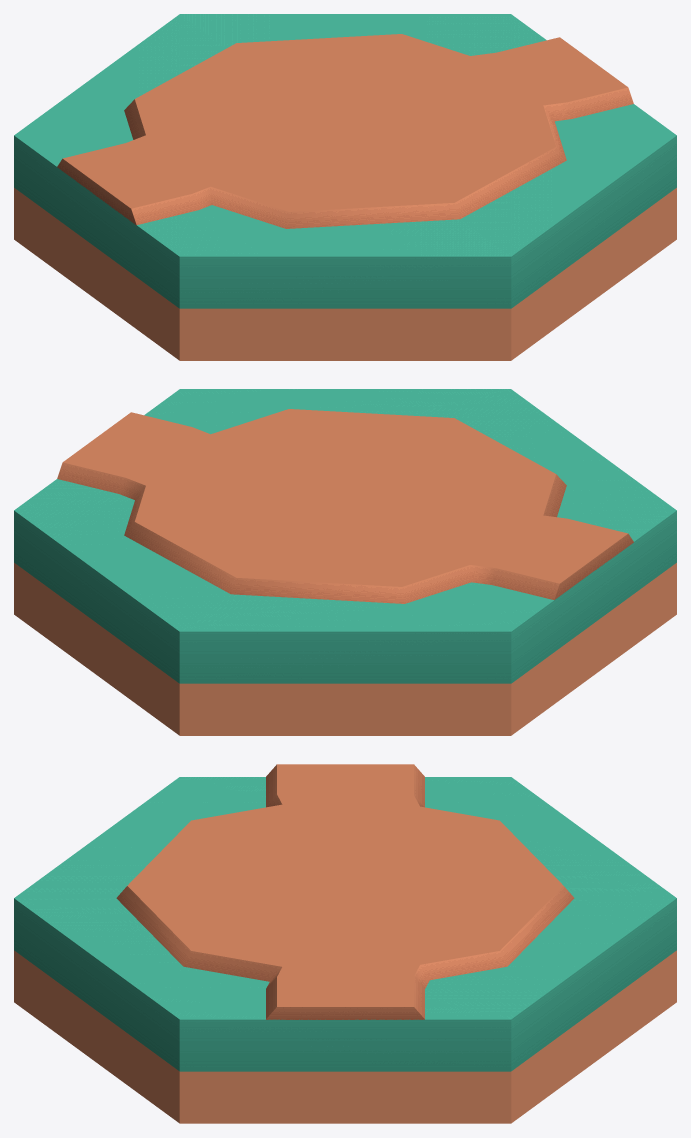
File: grass-path-square.glb
The picture shows the model from 3 angles, top to bottom: view 1: azimuth 30°, elevation 25°; view 2: azimuth 150°, elevation 25°; view 3: azimuth 270°, elevation 25°; orthographic projection.
Visible parts, largest first — view 1: grass, path-square; view 2: grass, path-square; view 3: grass, path-square.
Boxes of the visible parts, x1,y1,x2,y2 form: grass: (14,14,676,360); path-square: (57,34,633,228); grass: (14,389,676,735); path-square: (57,409,633,603); grass: (14,777,676,1123); path-square: (116,764,574,1019).
Bounding box in the file's own units: 1 × 0.224 × 1.15.
Materials: 1 (1 with a texture image).
